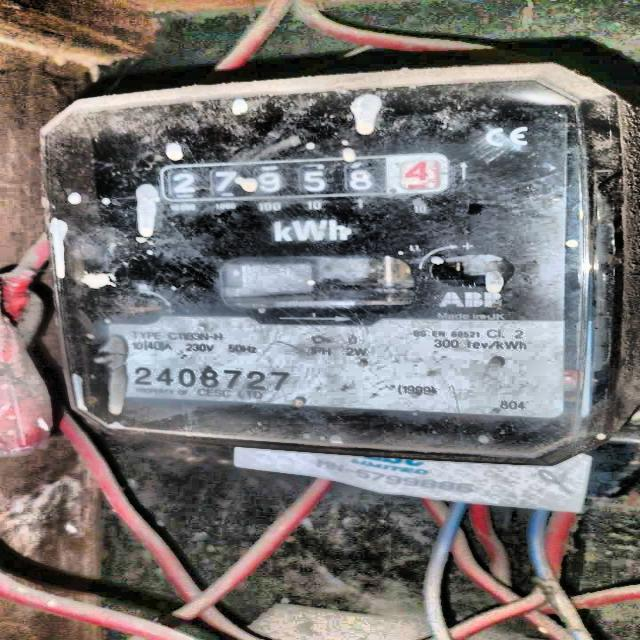Analog: (42, 89, 631, 486)
Reading: (156, 161, 442, 196)
Serial No.: (130, 364, 297, 388)
